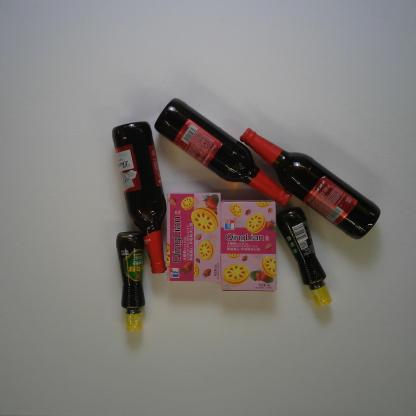Alcohol: (238, 127, 382, 242), (151, 95, 295, 207), (110, 120, 170, 273)
Dessert: (219, 196, 280, 293), (163, 189, 222, 284)
Seasoner: (274, 207, 334, 307), (115, 229, 146, 334)
